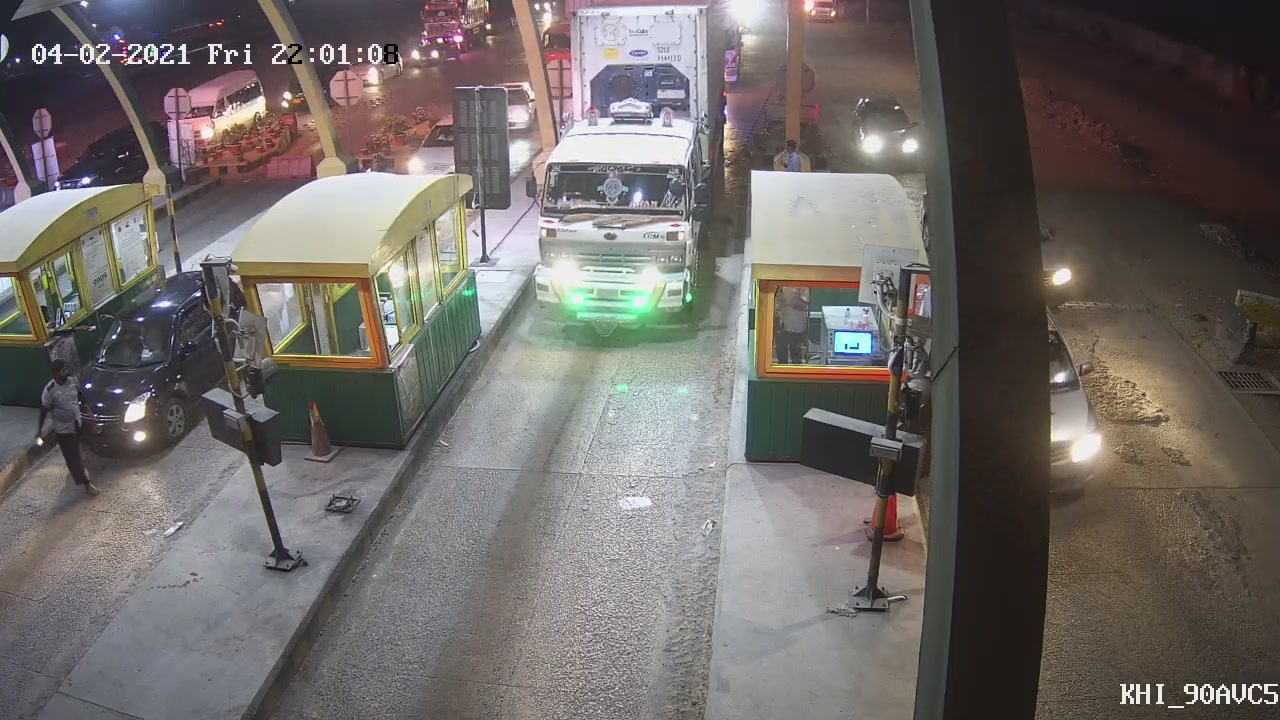F6: (520, 1, 737, 345)
